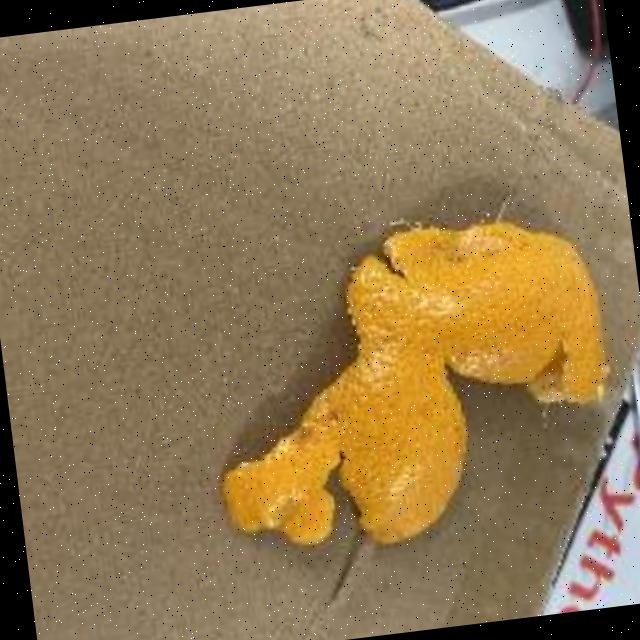orange-peel: (188, 196, 630, 566)
